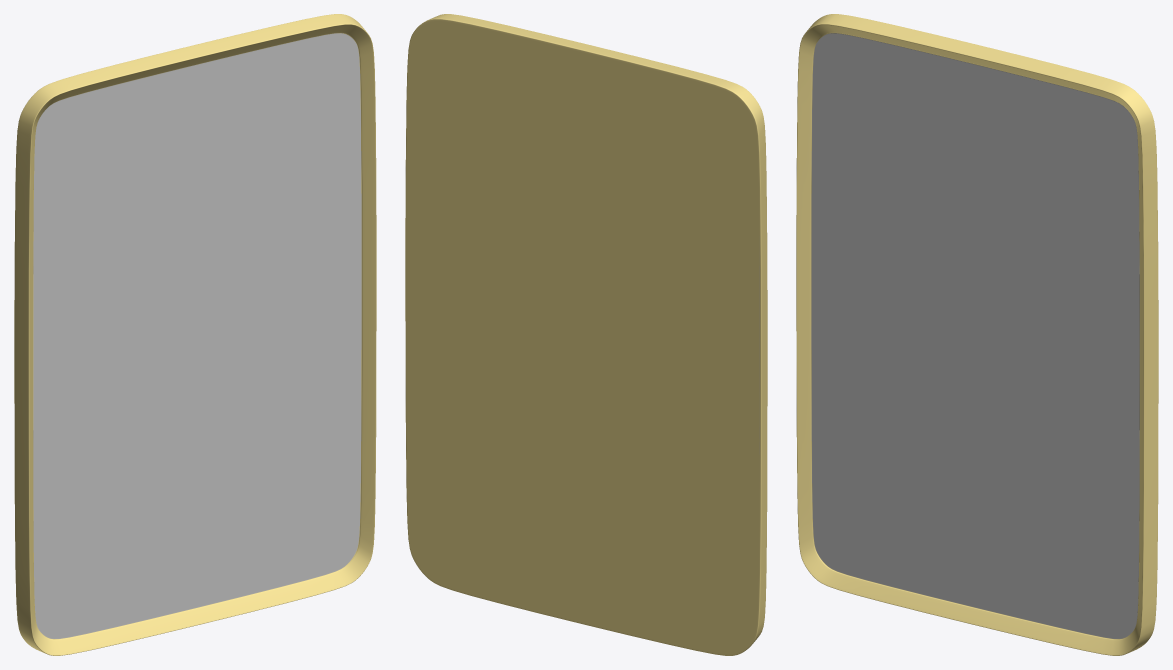
File: Mirror_003(Gold).gltf
3 views of the same model, side by side, from view 1: azimuth 30°, elevation 25°; view 2: azimuth 150°, elevation 25°; view 3: azimuth 330°, elevation 25° (orthographic).
Parts seen in each view (by area): view 1: Mirror_003; view 2: Mirror_003; view 3: Mirror_003.
Part boxes in pixels (x1,y1,x2,y2): Mirror_003: (14,14,376,655); Mirror_003: (405,14,767,655); Mirror_003: (796,14,1158,655).
Size of the model in its own units: 0.5679 by 0.8748 by 0.0289.
Materials: 1 (1 with a texture image).
